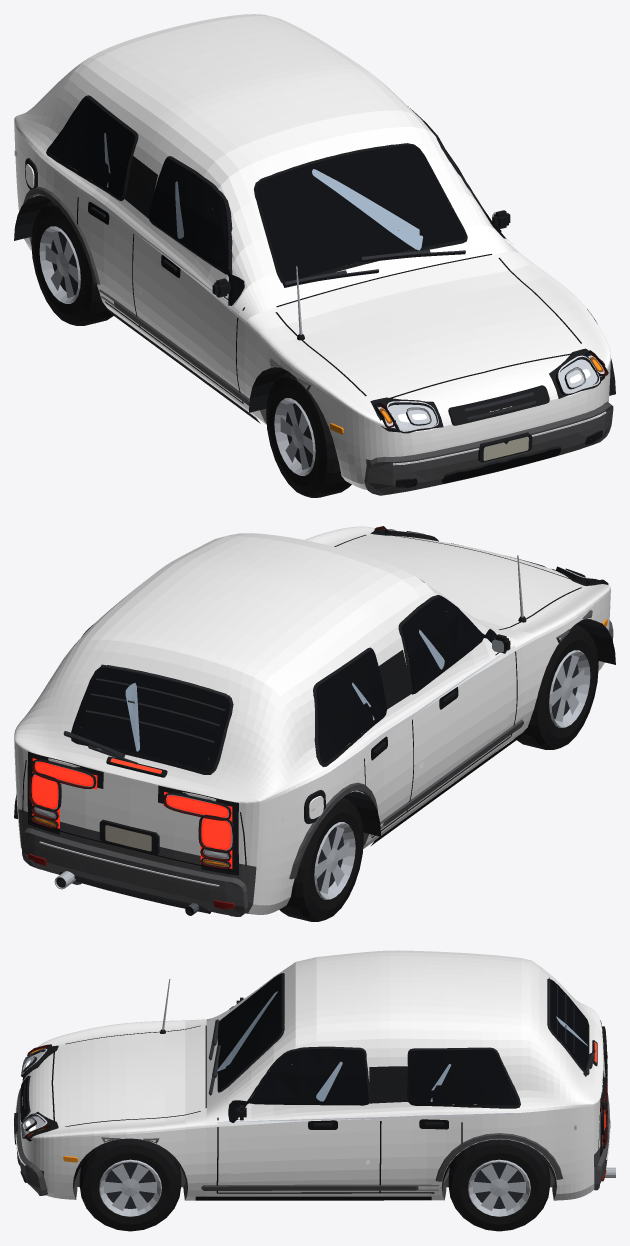
The model's file is tupiniquim.glb.
3 views of the same model, one above another, from view 1: azimuth 30°, elevation 25°; view 2: azimuth 150°, elevation 25°; view 3: azimuth 270°, elevation 25° (orthographic). The views are drawn at different scales.
Parts seen in each view (by area): view 1: body, vidro, parachoque_frente, wheel_fr, wheel_rr, lamp_head, reflexo_vidro, grade, wheel_wells, details, friso_lateral_r, fresta_capo (+3 smaller); view 2: body, vidro, parachoque_tras, lamp_tail, wheel_rr, wheel_fr, wheel_wells, details, placa_tras, friso_lateral_r, desembacador, alargamento_r (+3 smaller); view 3: body, vidro, wheel_fl, wheel_rl, details, friso_lateral_l, lamp_head, alargamento_l, reflexo_vidro, parachoque_frente, wheel_wells, fresta_porta (+5 smaller).
Boxes of the visible parts, <box> form: body: <box>14,14,610,489</box>; vidro: <box>46,95,506,305</box>; parachoque_frente: <box>364,401,613,495</box>; wheel_fr: <box>266,372,351,497</box>; wheel_rr: <box>31,201,113,325</box>; lamp_head: <box>370,348,608,433</box>; reflexo_vidro: <box>104,133,422,250</box>; grade: <box>448,385,549,425</box>; wheel_wells: <box>14,195,615,412</box>; details: <box>14,150,513,423</box>; friso_lateral_r: <box>99,289,249,405</box>; fresta_capo: <box>275,254,581,399</box>; body: <box>14,526,610,914</box>; vidro: <box>71,580,505,774</box>; parachoque_tras: <box>21,828,248,916</box>; lamp_tail: <box>27,751,238,875</box>; wheel_rr: <box>279,797,363,921</box>; wheel_fr: <box>517,624,598,749</box>; wheel_wells: <box>14,619,615,836</box>; details: <box>282,645,524,845</box>; placa_tras: <box>99,819,159,854</box>; friso_lateral_r: <box>370,719,523,836</box>; desembacador: <box>80,664,230,759</box>; alargamento_r: <box>289,610,592,879</box>; body: <box>20,950,605,1200</box>; vidro: <box>217,973,589,1122</box>; wheel_fl: <box>79,1140,181,1231</box>; wheel_rl: <box>448,1140,550,1231</box>; details: <box>195,1113,576,1200</box>; friso_lateral_l: <box>201,1167,449,1190</box>; lamp_head: <box>20,1044,58,1141</box>; alargamento_l: <box>101,1133,562,1181</box>; reflexo_vidro: <box>217,991,587,1101</box>; parachoque_frente: <box>15,1088,47,1195</box>; wheel_wells: <box>73,1138,556,1191</box>; fresta_porta: <box>216,1117,462,1193</box>.
Bounding box in the file's own units: 1.98 × 1.66 × 4.44.
